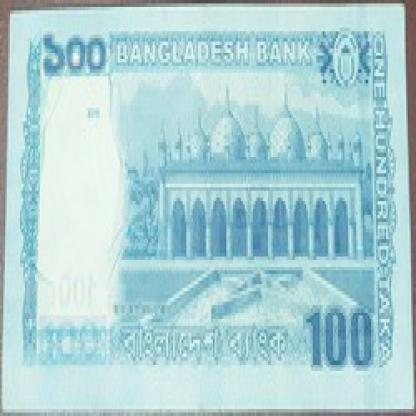one hundred taka: (304, 302, 375, 381), (37, 24, 108, 83)
